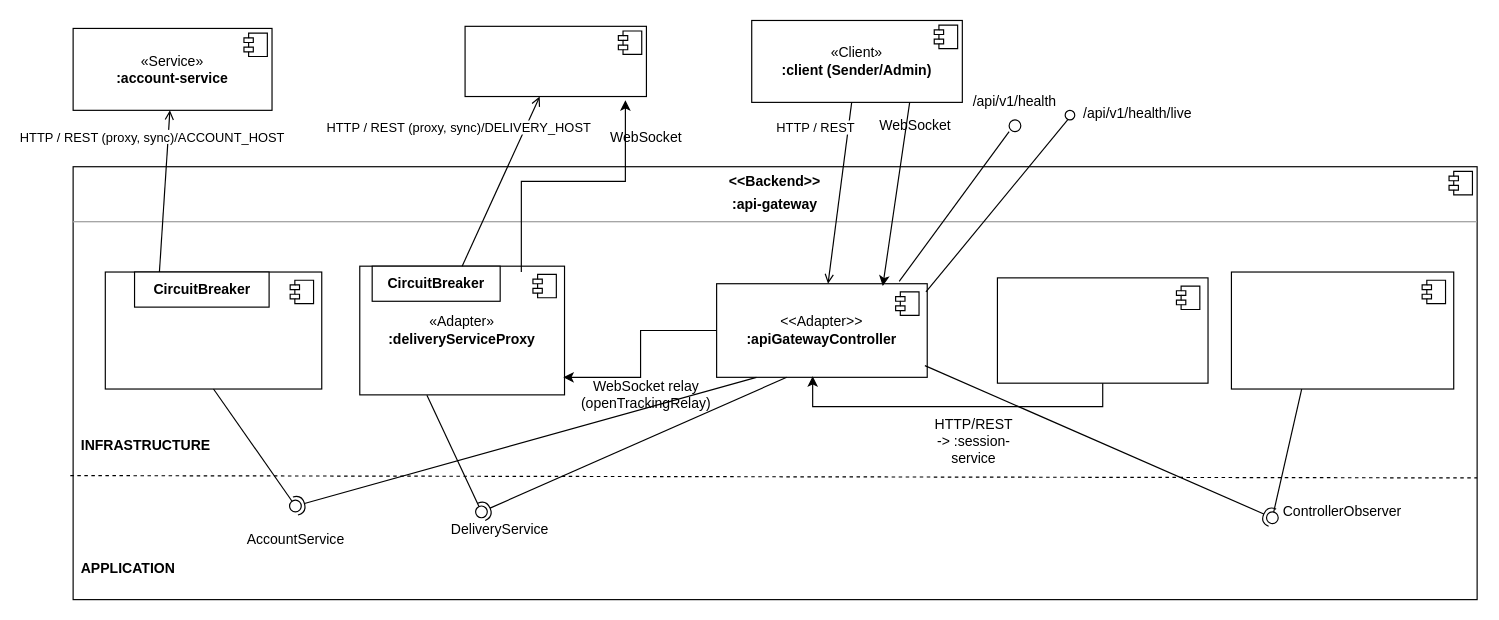
Some shapes in this 1499 by 620 pixel diagram are drawn without their labels. Each missing label, with the box of its shape:
«Adapter» :accountServiceProxy: (104, 271, 322, 389)
«Adapter» :prometheusControllerObserver: (1230, 271, 1454, 389)
«Adapter» :sessionServiceProxy: (996, 277, 1208, 383)
«Service» :delivery-service: (464, 25, 646, 97)
